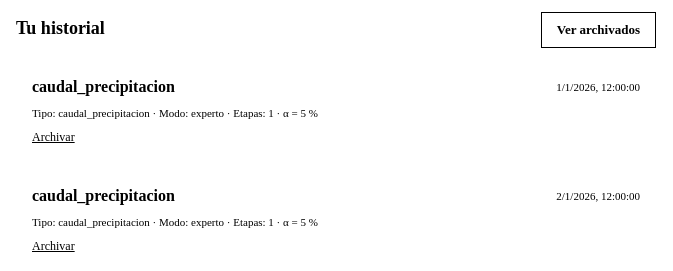
Test: HistoryPage › D-15 — cada vista muestra solo lo suyo aunque ?archivados=true traiga también los activos
Expected: the number of links is 2, [32,78,640,119]; [32,187,640,228]
Expected: the number of buttons "Archivar" is 2, [32,130,75,145]; [32,239,75,254]
Click the button "Ver archivados" at (598, 30), box [541,12,656,48]
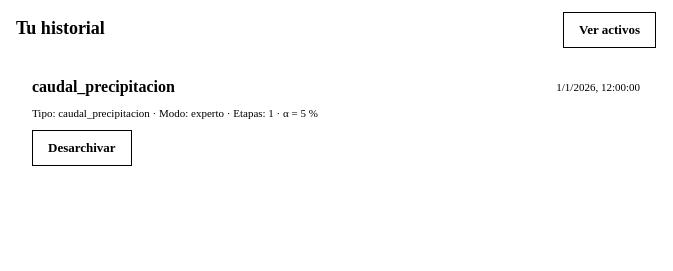
Expected: the number of links is 1, [32,78,640,119]
Expected: the button "Desarchivar" is shown, [32,130,132,166]
